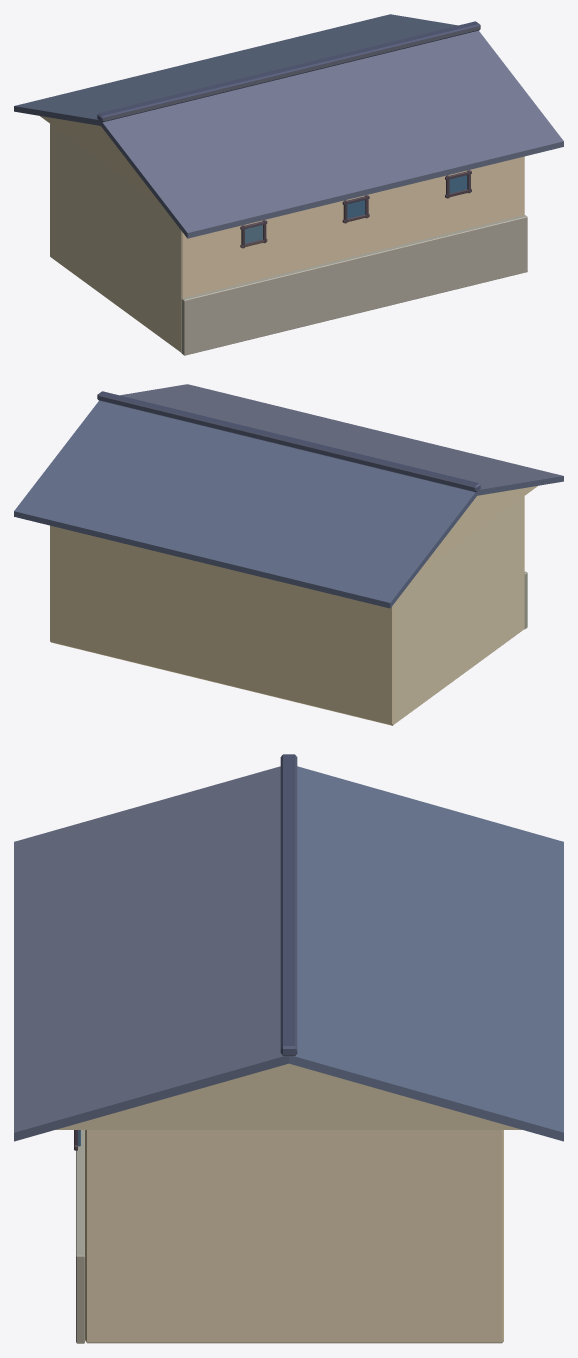
File: ART_ParkingPavilion.lod.glb
3 views of the same model, one above another, from view 1: azimuth 30°, elevation 25°; view 2: azimuth 150°, elevation 25°; view 3: azimuth 270°, elevation 25° (orthographic). The views are drawn at different scales.
Parts seen in each view (by area): view 1: ART_ParkingPavilion; view 2: ART_ParkingPavilion; view 3: ART_ParkingPavilion.
Boxes of the visible parts, x1,y1,x2,y2 form: ART_ParkingPavilion: (14, 14, 563, 355); ART_ParkingPavilion: (14, 384, 563, 725); ART_ParkingPavilion: (14, 754, 563, 1343).
Bounding box in the file's own units: 9.28 × 4.59 × 7.35.
